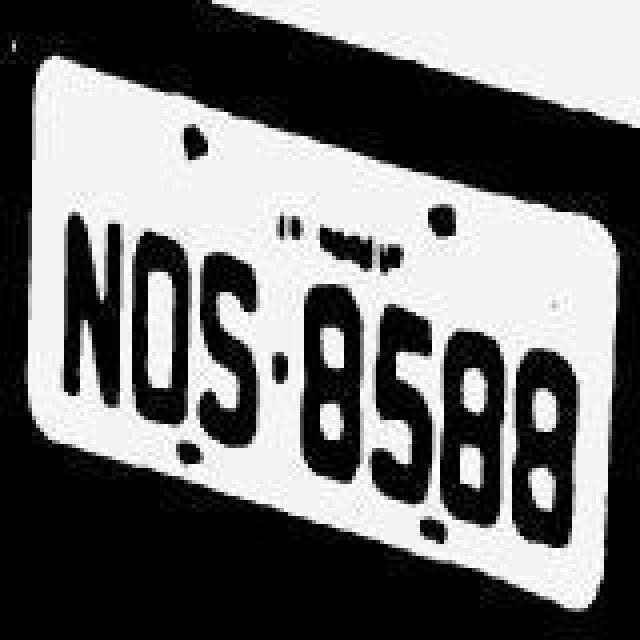5: (366, 294, 434, 514)
8: (290, 276, 366, 492), (512, 332, 584, 548), (440, 314, 512, 526)
N: (50, 164, 126, 428)
O: (126, 214, 194, 434)
S: (190, 244, 266, 444)
